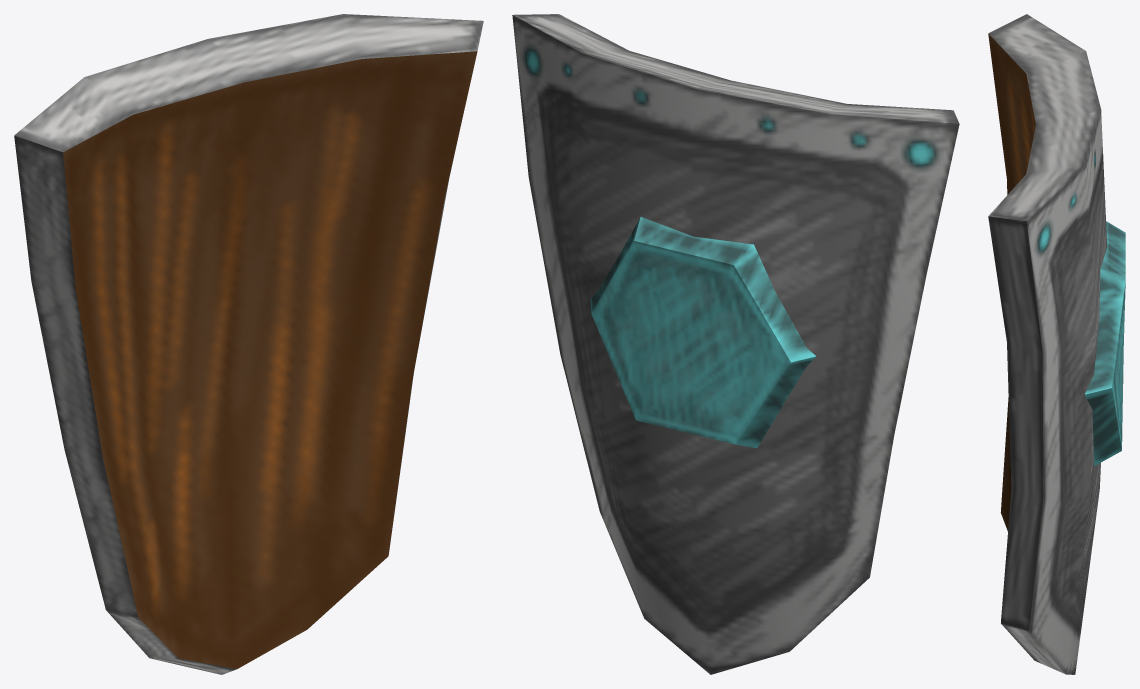
File: humanShield2.fbx
3 views of the same model, side by side, from view 1: azimuth 30°, elevation 25°; view 2: azimuth 150°, elevation 25°; view 3: azimuth 270°, elevation 25° (orthographic). The views are drawn at different scales.
Parts seen in each view (by area): view 1: pCylinder2; view 2: pCylinder2; view 3: pCylinder2.
Boxes of the visible parts, x1,y1,x2,y2 form: pCylinder2: [14, 14, 483, 674]; pCylinder2: [512, 14, 959, 674]; pCylinder2: [988, 14, 1125, 674].
Bounding box in the file's own units: 2.8 × 3.56 × 0.7851.
